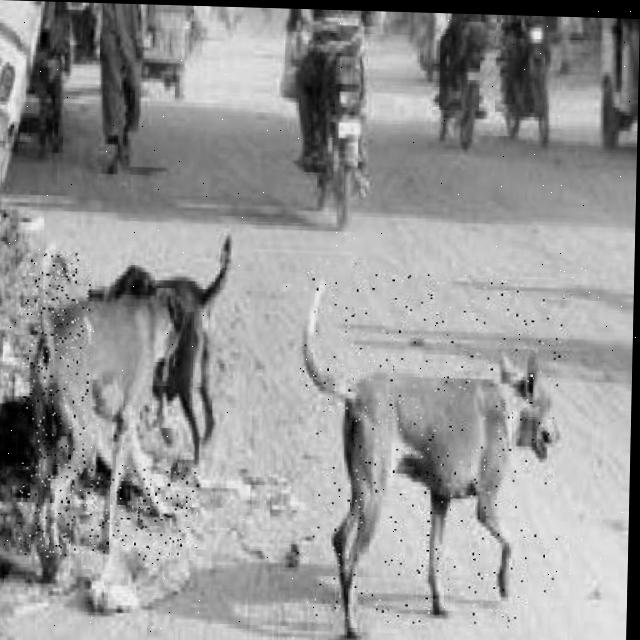Dog: (296, 258, 567, 631), (19, 252, 208, 563), (86, 246, 247, 472)
